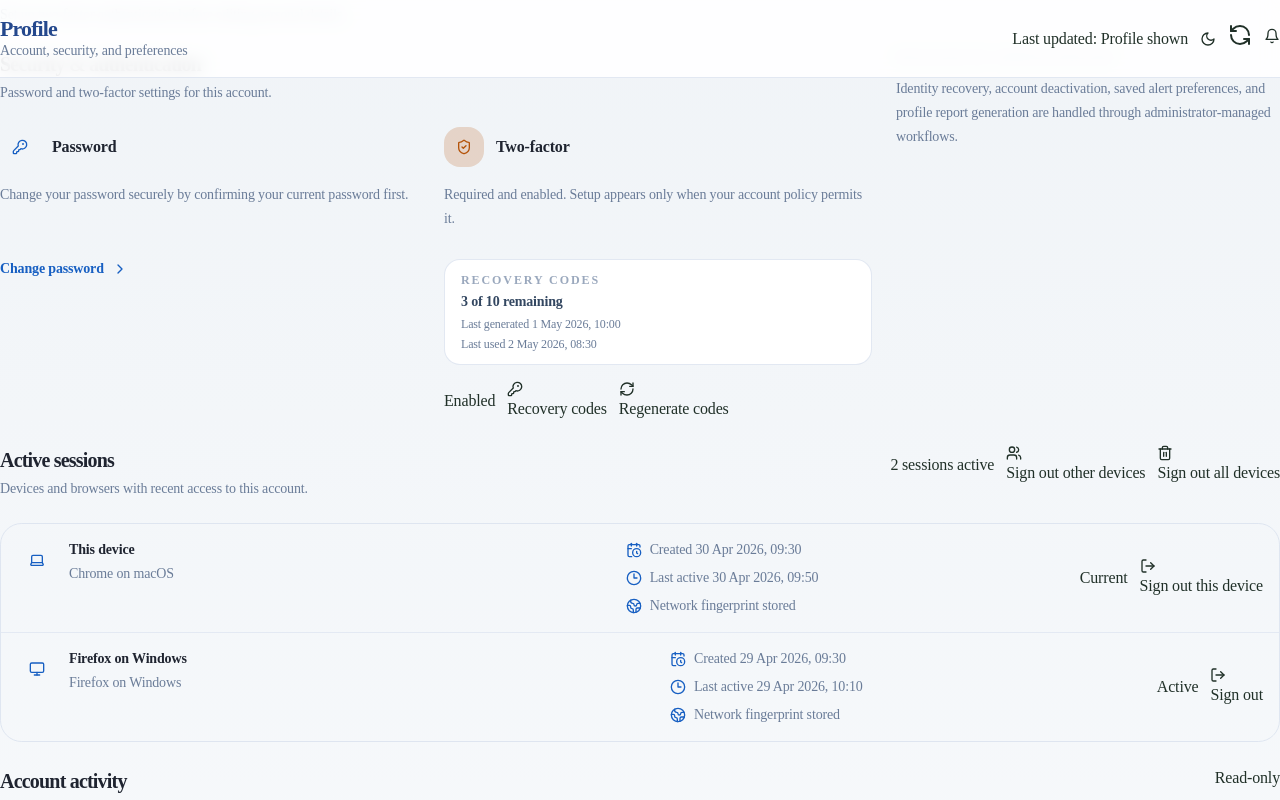
Scenario: ProfilePage › shows recovery-code status without exposing old plaintext codes
The image size is (1280, 800).
(page scrolled)
Expected: the text "3 of 10 remaining" is shown, [461,294,563,308]
Expected: the text "Last generated 1 May 2026, 10:00" is shown, [461,316,620,330]
Click the button "Recovery codes": (557, 400) [507,380,607,420]
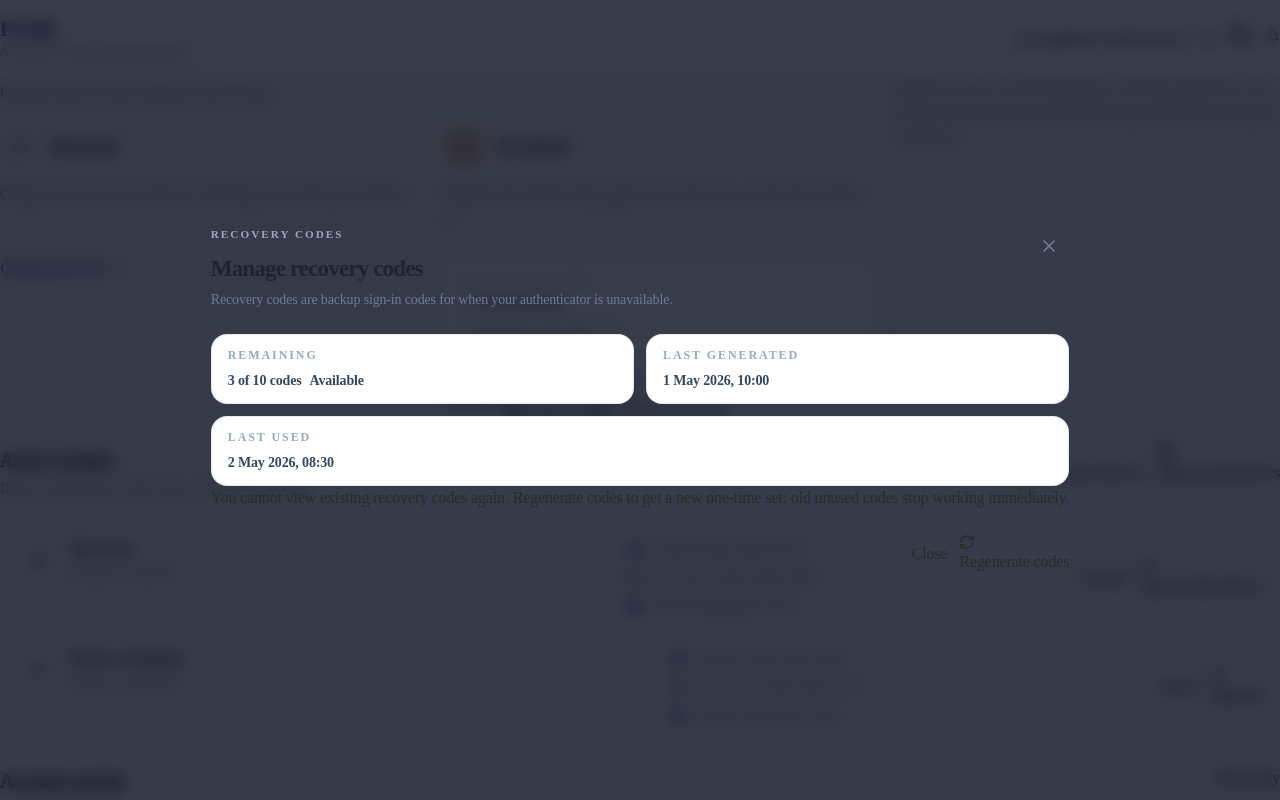
Now the heading "Manage recovery codes" is shown, box [211,255,423,281]
Now the text "3 of 10 codes" is shown, box [228,373,302,388]
Now the text "You cannot view existing recovery codes again" is shown, box [211,489,1069,506]
